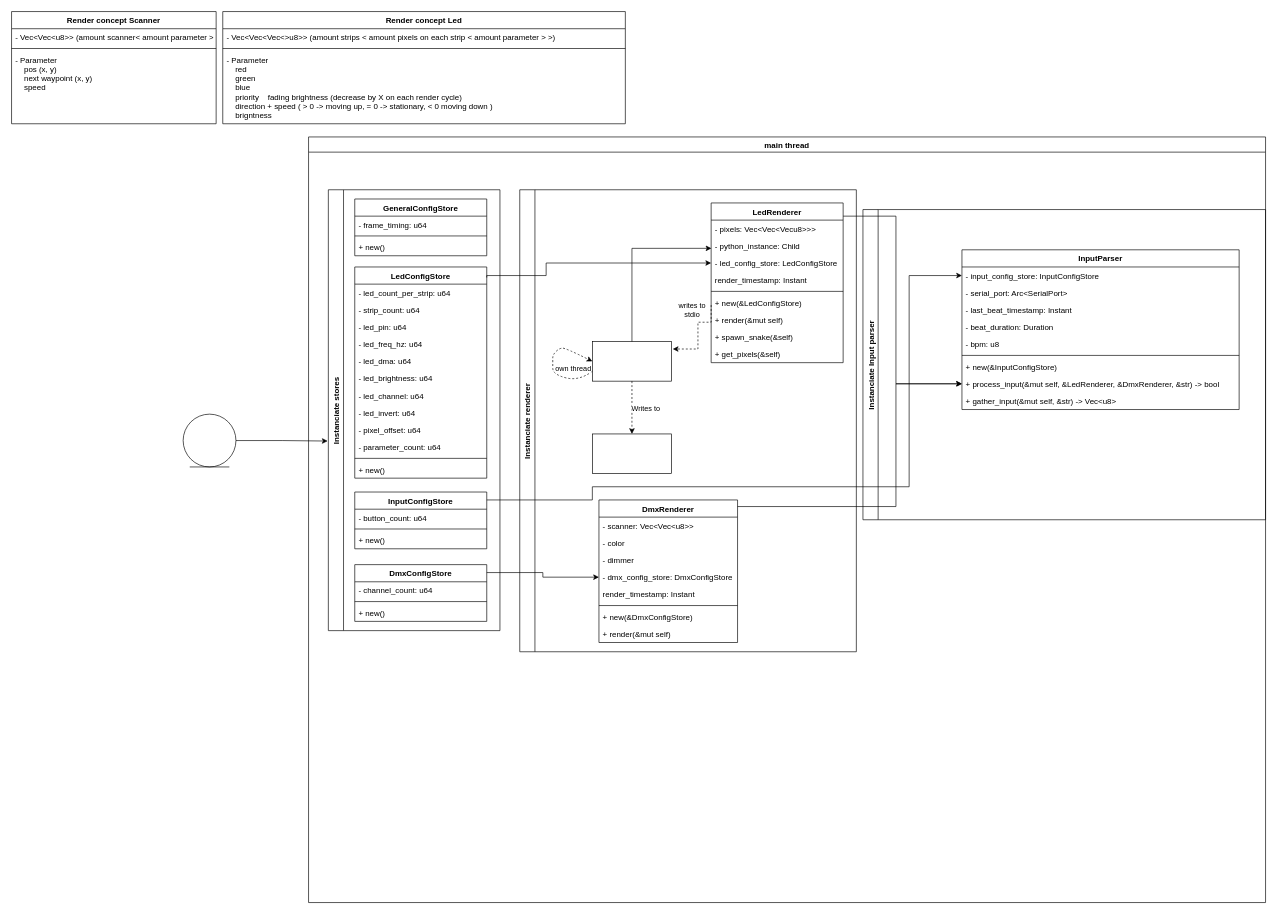
Image size: 1277x914. Some labels were removed from this diagram. The shapes that lost their labels are listed below. From the top down, each one's centre as x and y in pixels, then its label:
At point (632, 361): "python_instance".
At point (209, 440): "Start".
At point (632, 453): "Physical strip".
